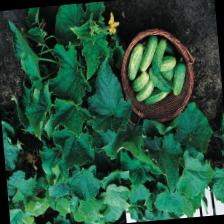cucumber: (136, 34, 160, 72), (148, 37, 169, 76), (124, 43, 145, 80), (148, 64, 172, 94), (170, 60, 188, 96), (151, 54, 176, 73)
